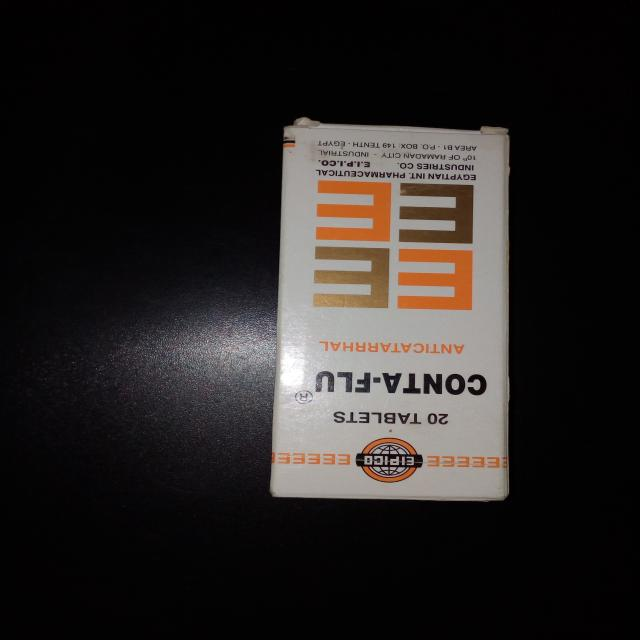Medicine: (264, 114, 522, 507)
